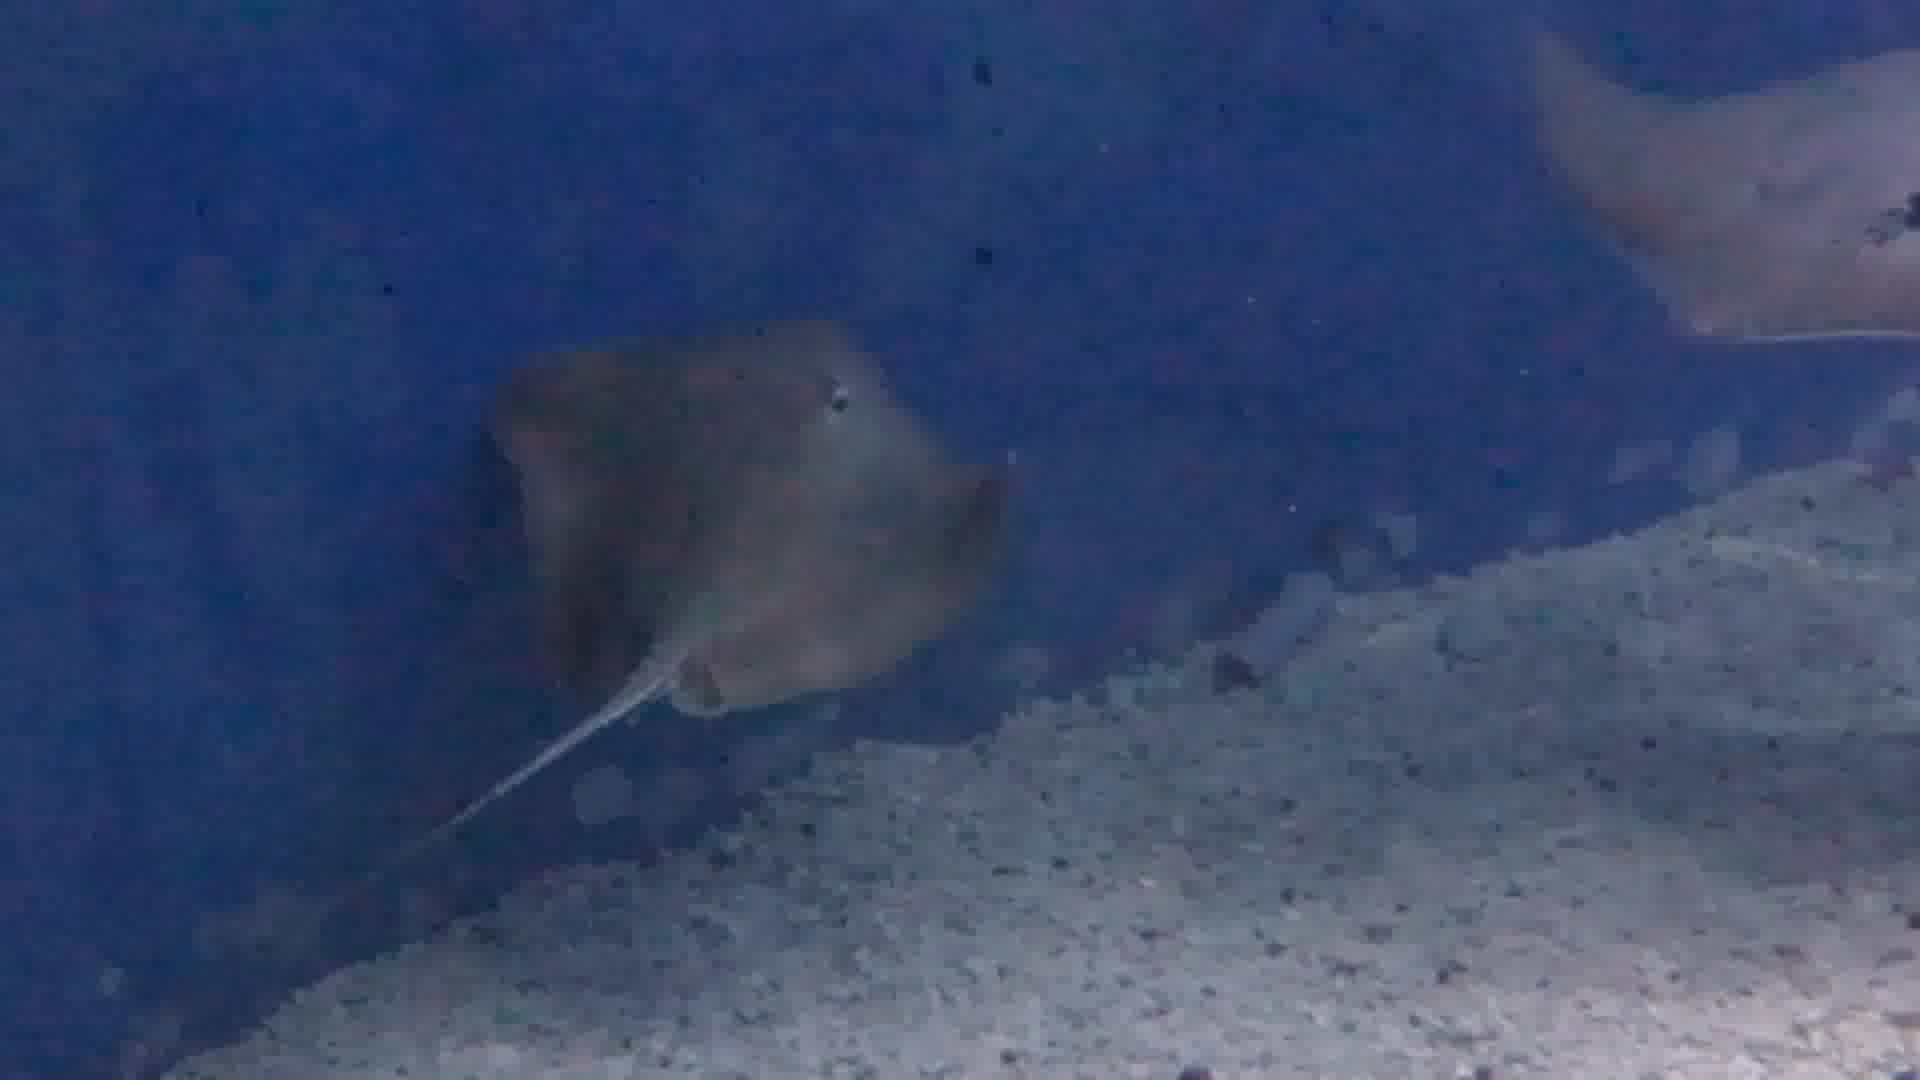Himantura gerrardi: (357, 276, 1035, 928)
